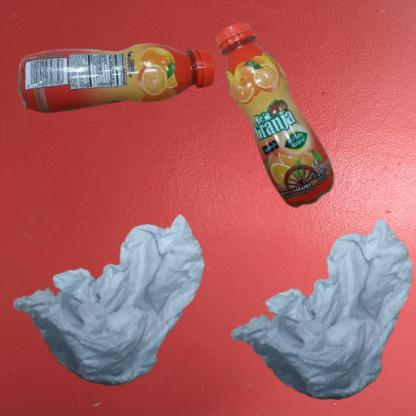botella: (10, 10, 246, 165), (213, 10, 354, 243)
papel: (213, 213, 416, 416), (10, 213, 209, 390)
